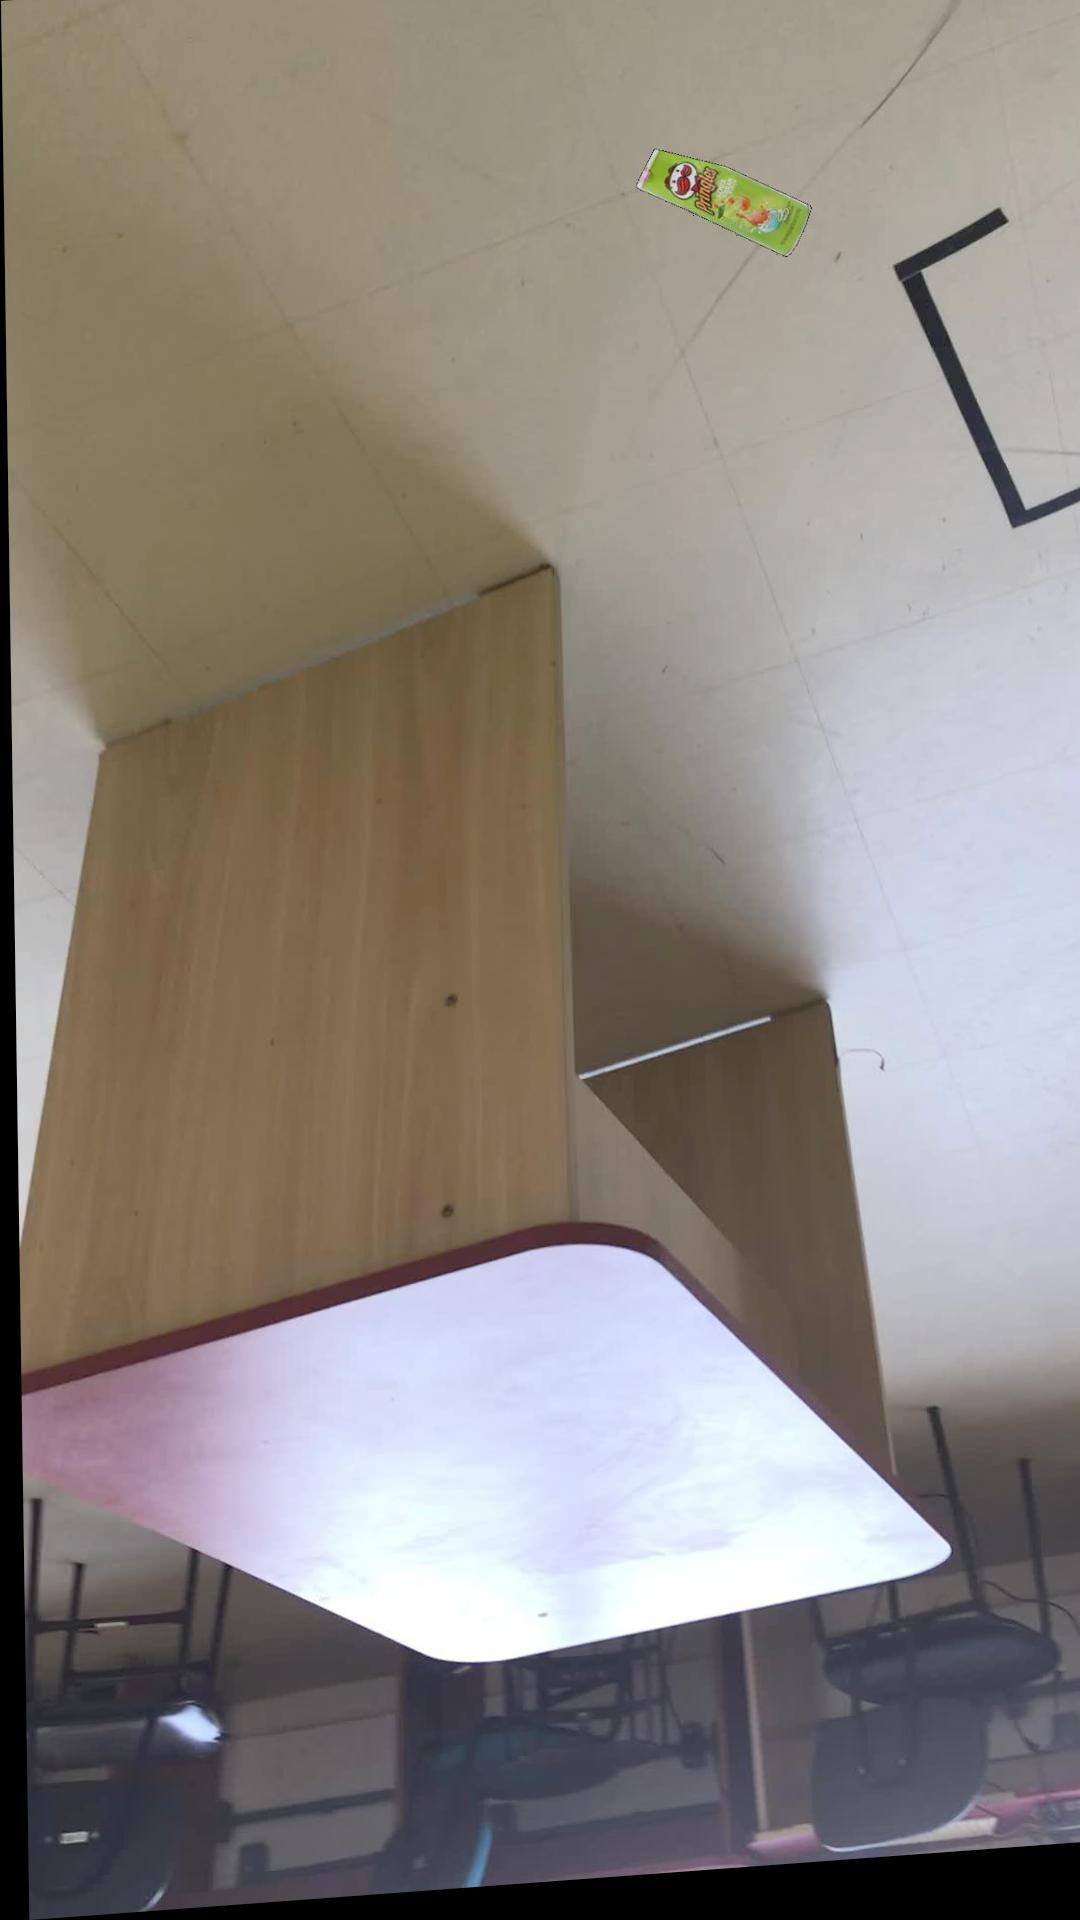pringles: (636, 160, 811, 270)
